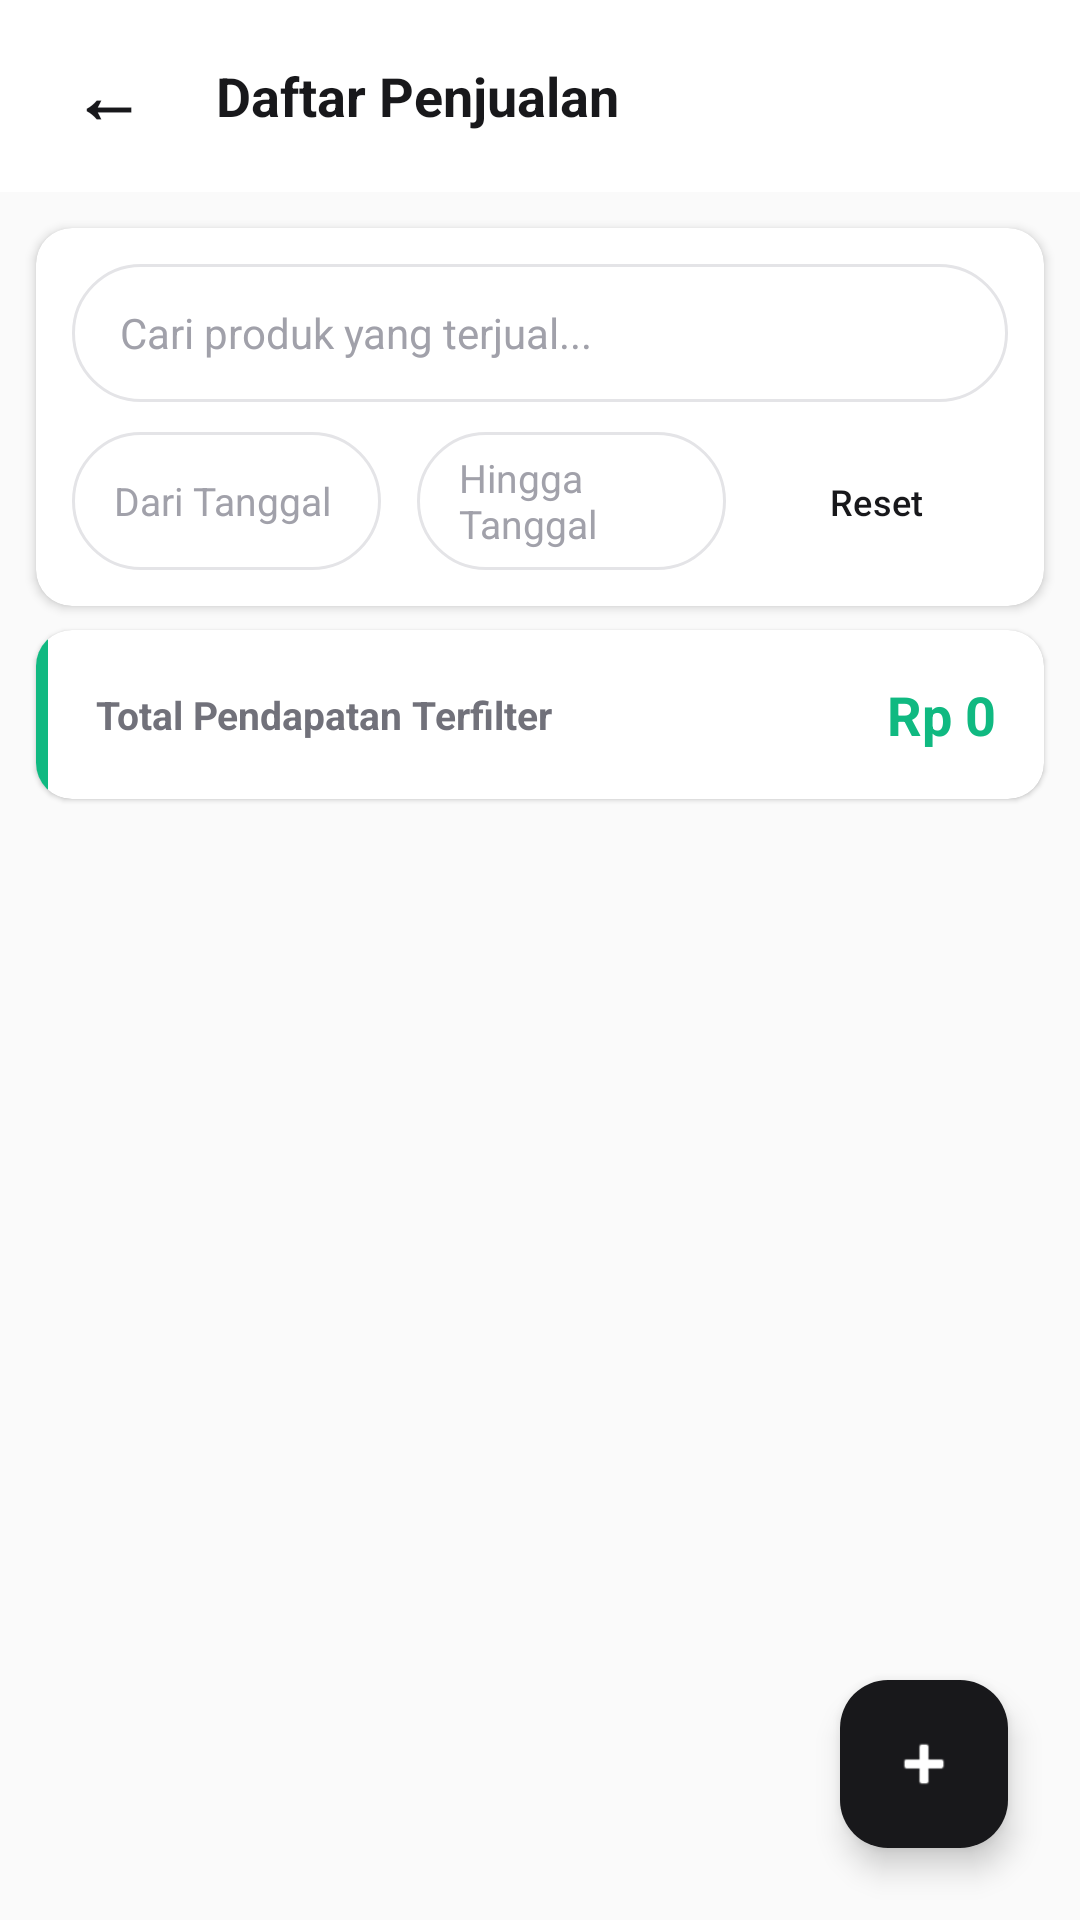

Icon bounding boxes for this 1080px×1920px phone screenshot, format (x1, y1, x2, y2):
Tambah Penjualan: (840, 1680, 1008, 1848)
